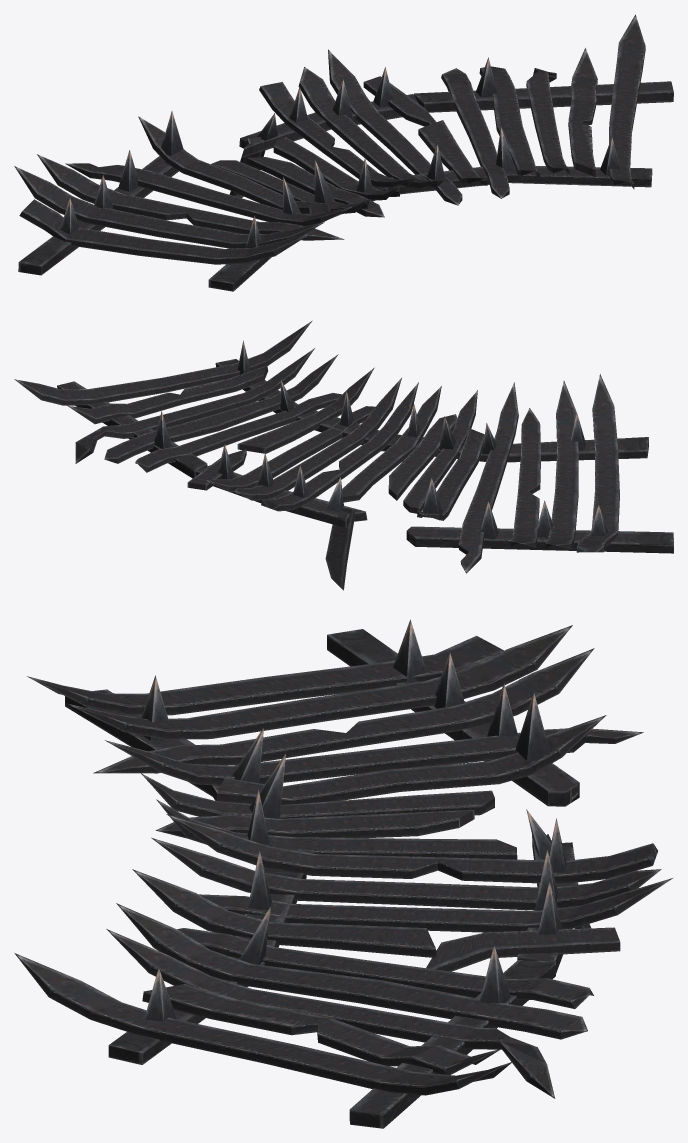
The model's file is 10504_IronRail08.FBX.
3 renders of one model, top to bottom at view 1: azimuth 30°, elevation 25°; view 2: azimuth 150°, elevation 25°; view 3: azimuth 270°, elevation 25°, orthographic. The views are drawn at different scales.
Parts seen in each view (by area): view 1: 10504_IronRail08; view 2: 10504_IronRail08; view 3: 10504_IronRail08.
Boxes of the visible parts, left/top/right/bottom form: 10504_IronRail08: left=14, top=14, right=673, bottom=291; 10504_IronRail08: left=14, top=320, right=673, bottom=590; 10504_IronRail08: left=14, top=619, right=672, bottom=1128.
Size of the model in its own units: 1329 by 244 by 722.
